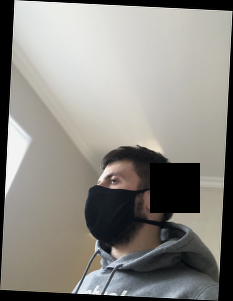with_mask: (84, 169, 145, 246)
